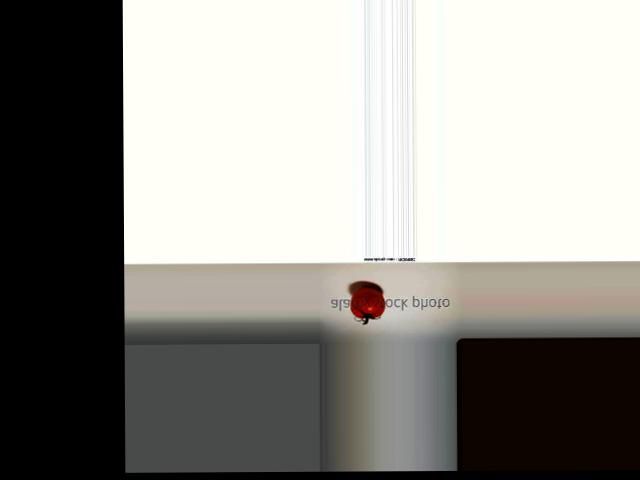tomato: (350, 287, 385, 319)
